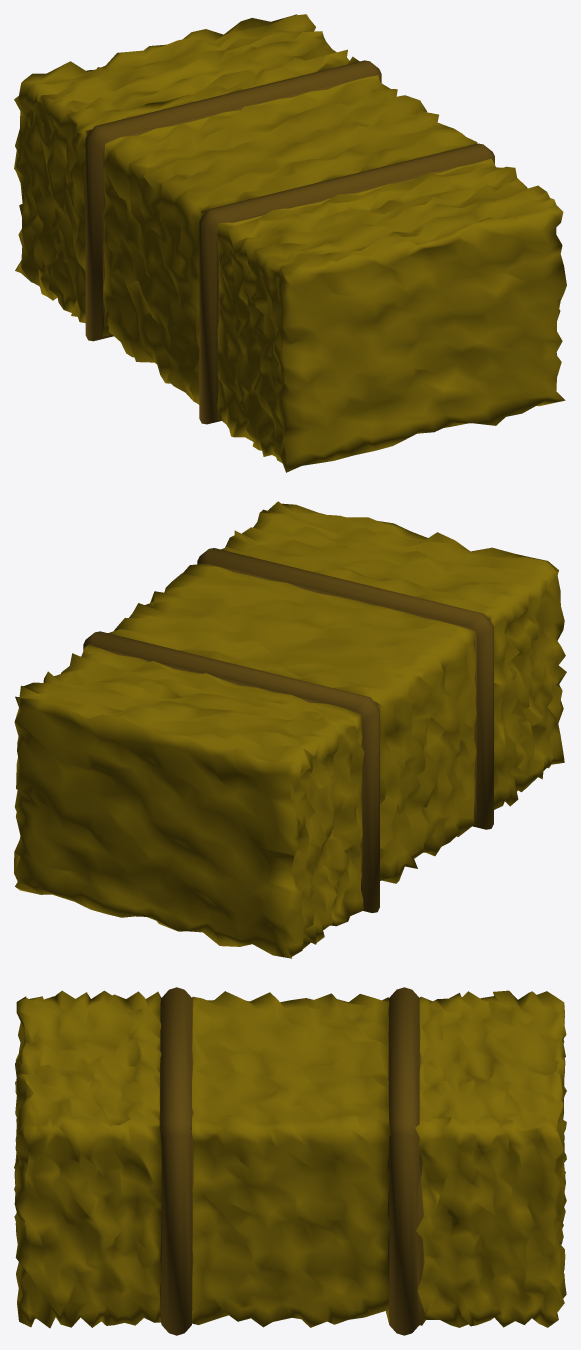
Rendered from HayBale.fbx.
3 renders of one model, top to bottom at view 1: azimuth 30°, elevation 25°; view 2: azimuth 150°, elevation 25°; view 3: azimuth 270°, elevation 25°, orthographic.
Parts seen in each view (by area): view 1: Cube; view 2: Cube; view 3: Cube.
Part boxes in pixels (x1,y1,x2,y2): Cube: (14,14,566,472); Cube: (14,501,566,958); Cube: (14,987,566,1335).
Size of the model in its own units: 213 by 147 by 349.
